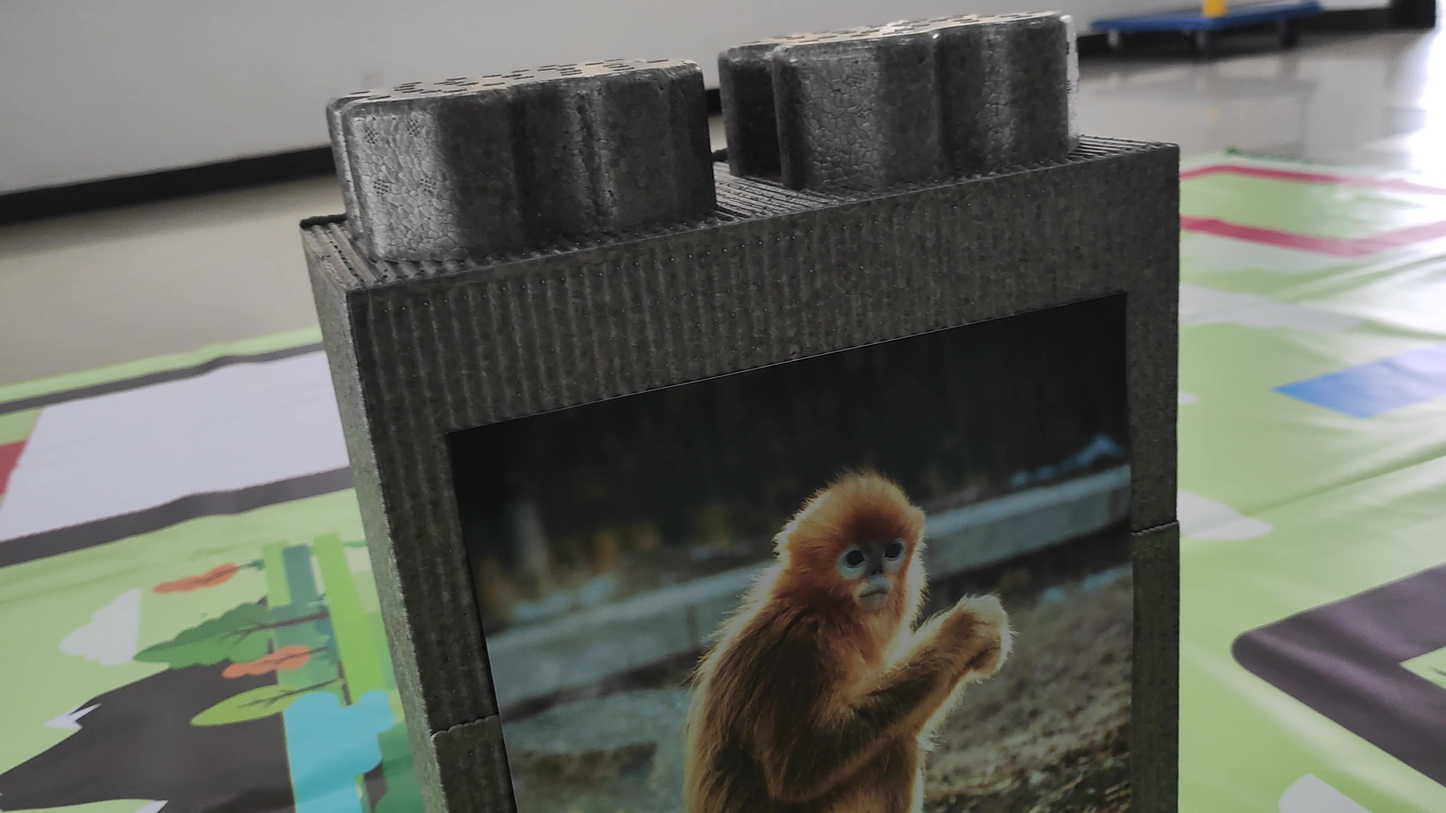monkey: (678, 456, 1013, 813)
